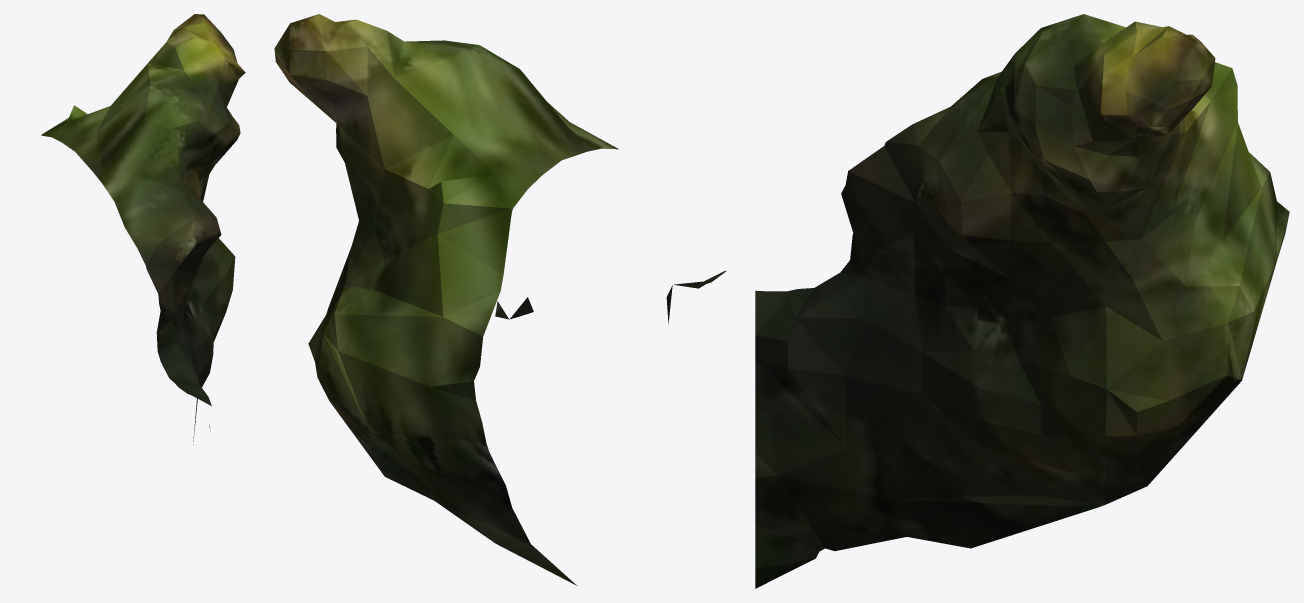
The picture shows the model from 3 angles, left to right: view 1: azimuth 30°, elevation 25°; view 2: azimuth 150°, elevation 25°; view 3: azimuth 270°, elevation 25°; orthographic projection. The views are drawn at different scales.
Size of the model in its own units: 0.2103 by 0.4987 by 0.3629.
1 material, 1 textured.
